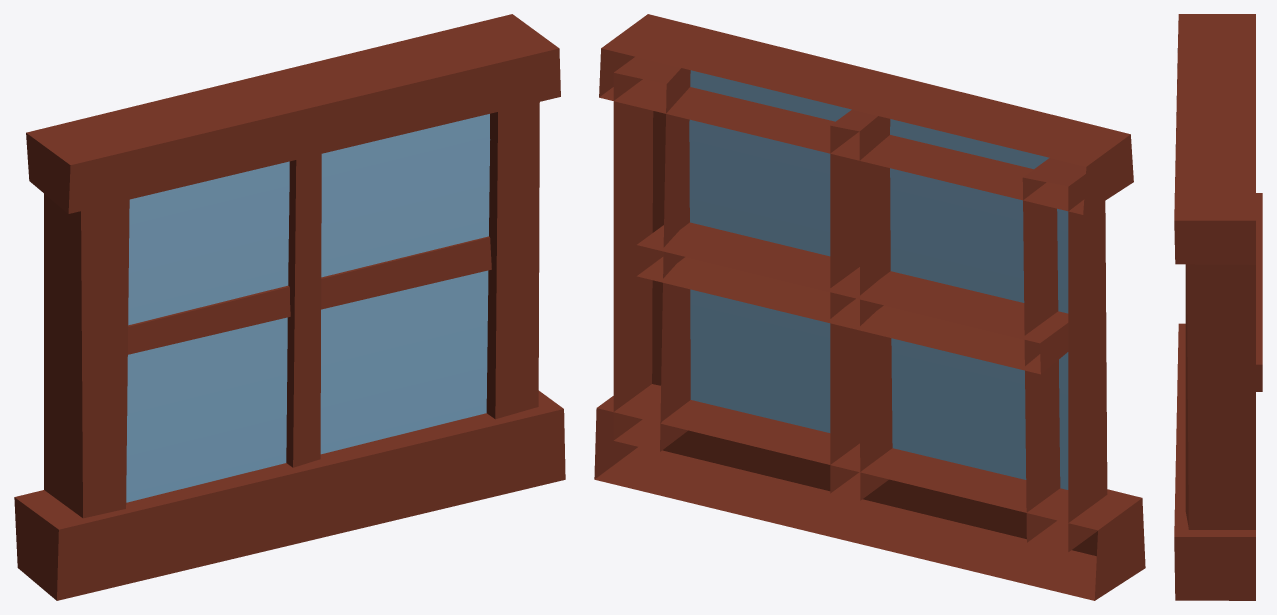
File: House_Window_C.fbx
The picture shows the model from 3 angles, left to right: view 1: azimuth 30°, elevation 25°; view 2: azimuth 150°, elevation 25°; view 3: azimuth 270°, elevation 25°; orthographic projection. The views are drawn at different scales.
Parts seen in each view (by area): view 1: House_Window_C; view 2: House_Window_C; view 3: House_Window_C.
Boxes of the visible parts, x1,y1,x2,y2 form: House_Window_C: [14, 14, 565, 600]; House_Window_C: [594, 14, 1145, 600]; House_Window_C: [1174, 14, 1262, 600].
Size of the model in its own units: 121 by 98.8 by 20.98.
